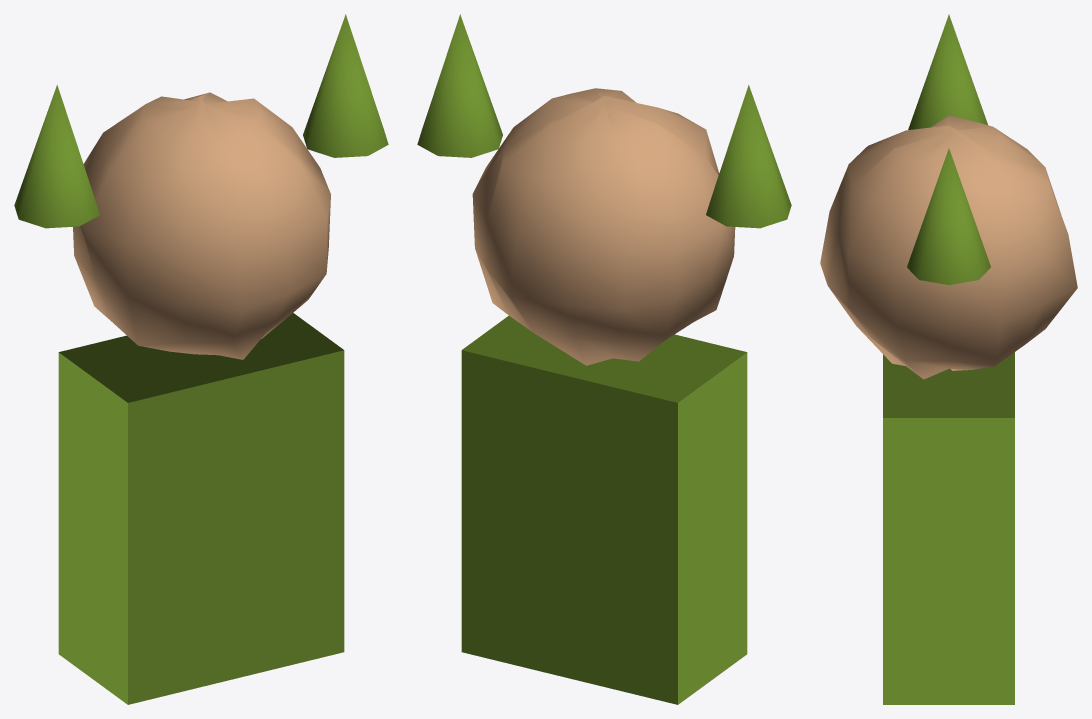
The model's file is tier2_goblin.obj.
3 views of the same model, side by side, from view 1: azimuth 30°, elevation 25°; view 2: azimuth 150°, elevation 25°; view 3: azimuth 270°, elevation 25° (orthographic). The views are drawn at different scales.
Visible parts, largest first — view 1: pernas, tronco, orelha_dir, orelha_esq; view 2: pernas, tronco, orelha_dir, orelha_esq; view 3: pernas, tronco, orelha_dir, orelha_esq.
Part boxes in pixels (bbox=[...]): pernas: bbox=[58, 313, 344, 704]; tronco: bbox=[73, 92, 330, 359]; orelha_dir: bbox=[303, 14, 388, 157]; orelha_esq: bbox=[14, 85, 99, 228]; pernas: bbox=[461, 316, 747, 704]; tronco: bbox=[472, 88, 735, 365]; orelha_dir: bbox=[417, 14, 502, 157]; orelha_esq: bbox=[706, 85, 791, 228]; pernas: bbox=[883, 352, 1014, 704]; tronco: bbox=[820, 115, 1077, 379]; orelha_dir: bbox=[907, 148, 990, 284]; orelha_esq: bbox=[908, 14, 987, 129].
Size of the model in its own units: 0.76 by 1.2 by 0.4883.
